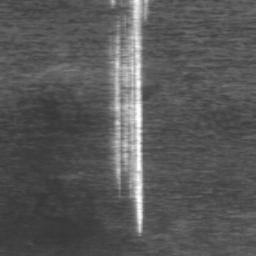Bright scratch: (110, 0, 149, 236)
